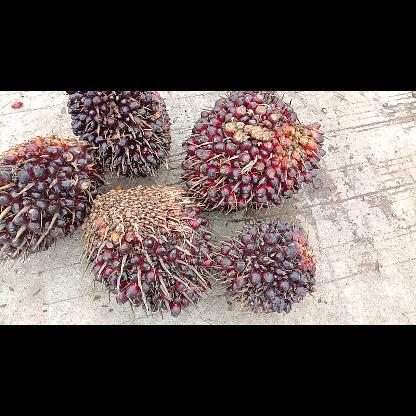TBS mentah: (81, 184, 217, 317), (179, 91, 325, 213), (0, 136, 104, 262), (212, 218, 316, 312), (66, 90, 172, 178)
